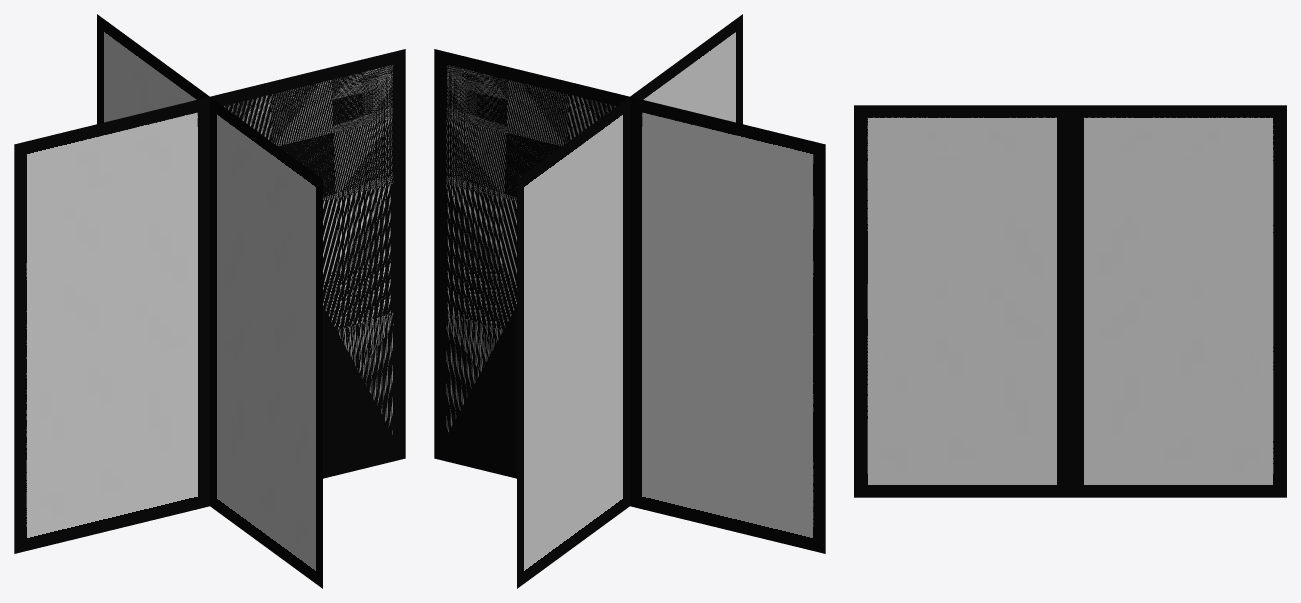
Rendered from Draaideur.glb.
The picture shows the model from 3 angles, left to right: view 1: azimuth 30°, elevation 25°; view 2: azimuth 150°, elevation 25°; view 3: azimuth 270°, elevation 25°; orthographic projection. The views are drawn at different scales.
Visible parts, largest first — view 1: draaideur; view 2: draaideur; view 3: draaideur.
Boxes of the visible parts, x1,y1,x2,y2 form: draaideur: (14, 14, 405, 588); draaideur: (434, 14, 825, 588); draaideur: (854, 105, 1286, 497).
Bounding box in the file's own units: 2 × 2 × 2.
Materials: 1 (1 with a texture image).
